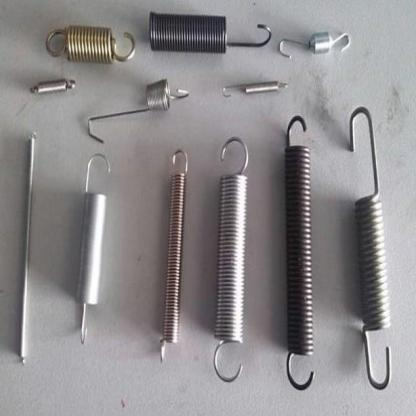FOD: (344, 103, 395, 392), (282, 110, 318, 394), (212, 134, 251, 384), (71, 151, 113, 348), (86, 74, 190, 145), (158, 148, 190, 368), (148, 11, 274, 55), (44, 22, 138, 66), (278, 28, 353, 62), (222, 78, 290, 102), (28, 76, 76, 98)
